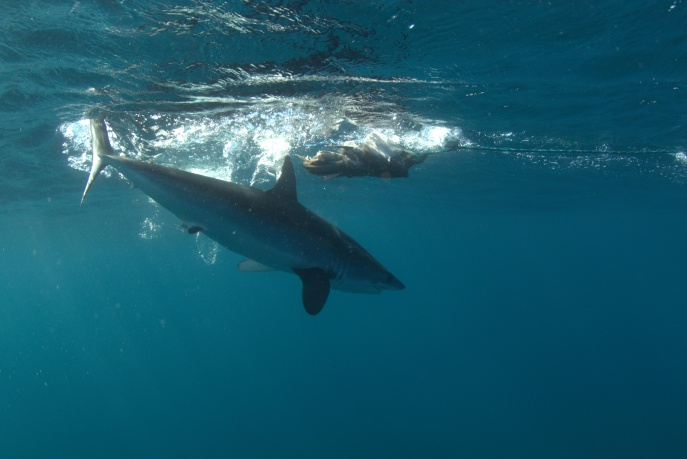Mako: (66, 104, 412, 321)
